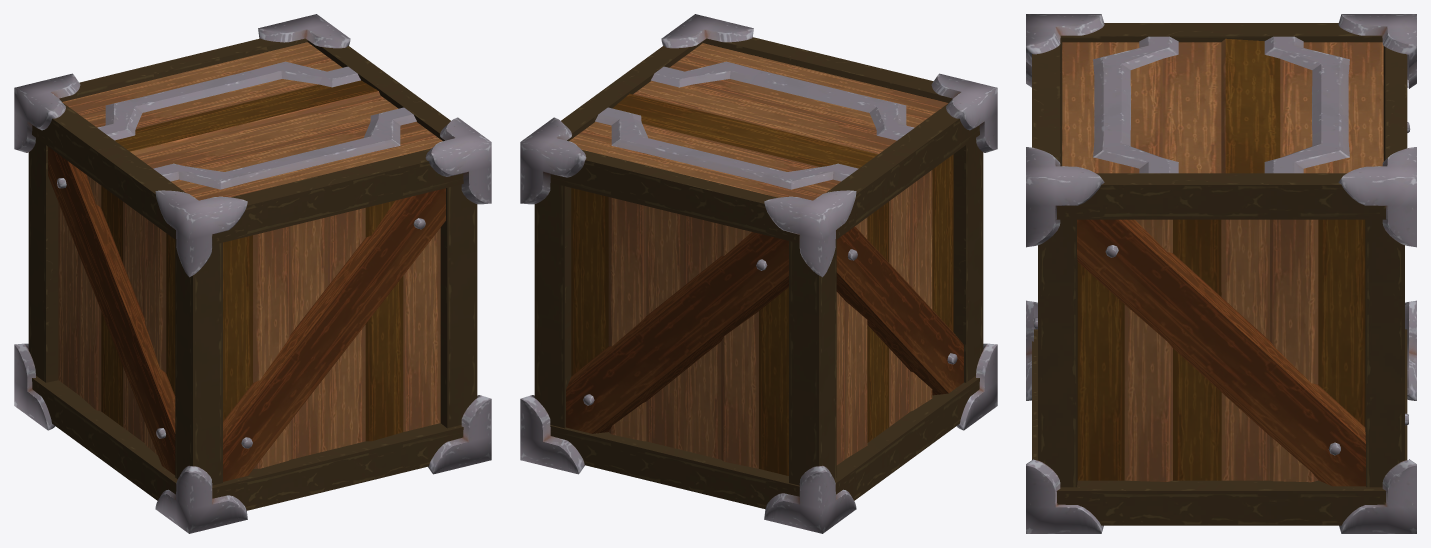
The model's file is Crate_Metal.gltf.
The picture shows the model from 3 angles, left to right: view 1: azimuth 30°, elevation 25°; view 2: azimuth 150°, elevation 25°; view 3: azimuth 270°, elevation 25°; orthographic projection. The views are drawn at different scales.
Parts seen in each view (by area): view 1: Crate_Metal; view 2: Crate_Metal; view 3: Crate_Metal.
Part boxes in pixels (x1=…): Crate_Metal: x1=14, y1=14, x2=491, y2=533; Crate_Metal: x1=520, y1=14, x2=997, y2=533; Crate_Metal: x1=1026, y1=14, x2=1416, y2=533.
Size of the model in its own units: 0.8639 by 0.8679 by 0.8659.
Materials: 2 (2 with a texture image).
